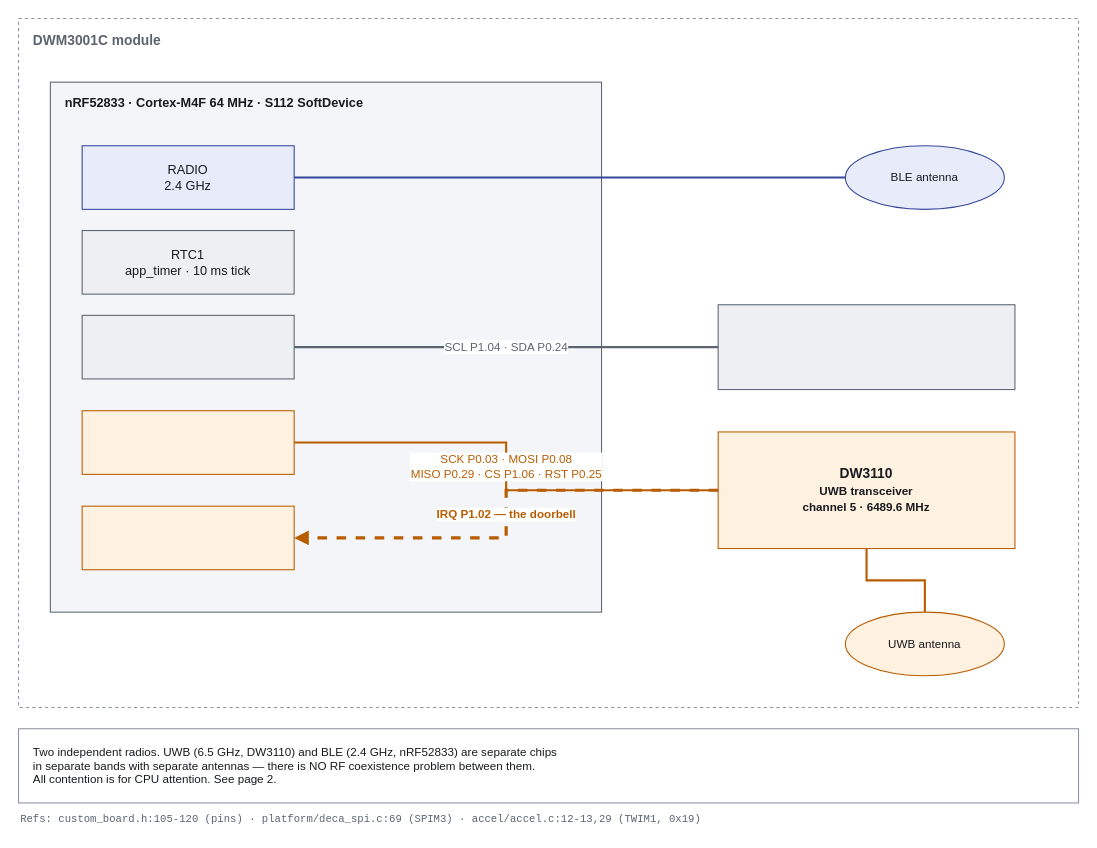
Image size: 1097x848. Some labels were removed from this diagram. The shapes that lost their labels are listed below. From the top down, each one's centre as x and y in pixels, then its label:
At (187,346): "TWIM1 400 kHz".
At (866,347): "LIS2DH12 3-axis accelerometer · addr 0x19".
At (187,442): "SPIM3".
At (187,537): "GPIOTE pri 6".
